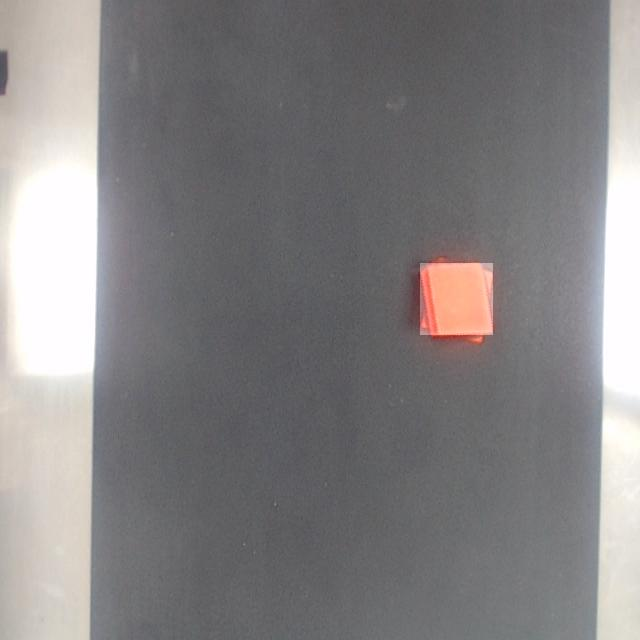Rojo: (420, 264, 493, 335)
